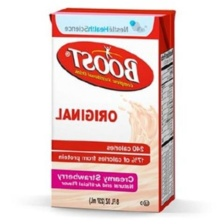carton: (40, 5, 179, 215)
